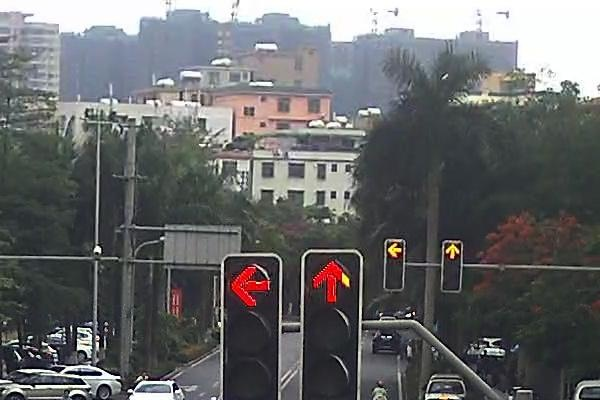redleft: (223, 257, 279, 308), (386, 242, 403, 259)
redstraight: (304, 252, 361, 306), (443, 242, 462, 259)
